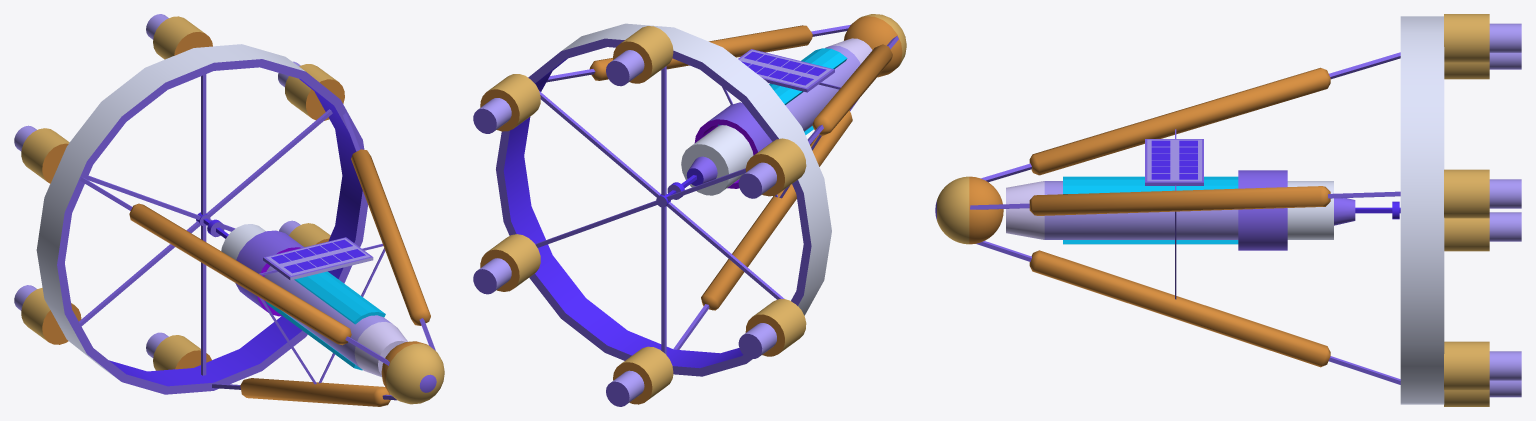
The model's file is Aircraft_04.fbx.
3 views of the same model, side by side, from view 1: azimuth 30°, elevation 25°; view 2: azimuth 150°, elevation 25°; view 3: azimuth 270°, elevation 25° (orthographic). The views are drawn at different scales.
Visible parts, largest first — view 1: polySurface1967, polySurface1948, polySurface1986; view 2: polySurface1967, polySurface1948, polySurface1986; view 3: polySurface1967, polySurface1948, polySurface1986.
Part boxes in pixels (x1,y1,x2,y2): polySurface1967: (14, 14, 444, 406); polySurface1948: (221, 224, 407, 377); polySurface1986: (265, 271, 385, 370); polySurface1967: (473, 14, 906, 406); polySurface1948: (681, 38, 872, 195); polySurface1986: (718, 48, 847, 134); polySurface1967: (935, 14, 1521, 406); polySurface1948: (1006, 170, 1355, 250); polySurface1986: (1063, 176, 1238, 244).
Size of the model in its own units: 50.3 by 55.13 by 75.37.
